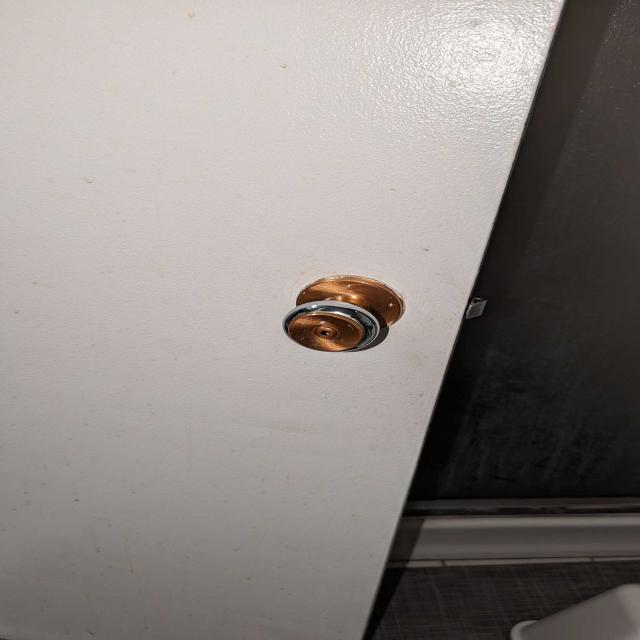door-knob: (284, 275, 404, 352)
